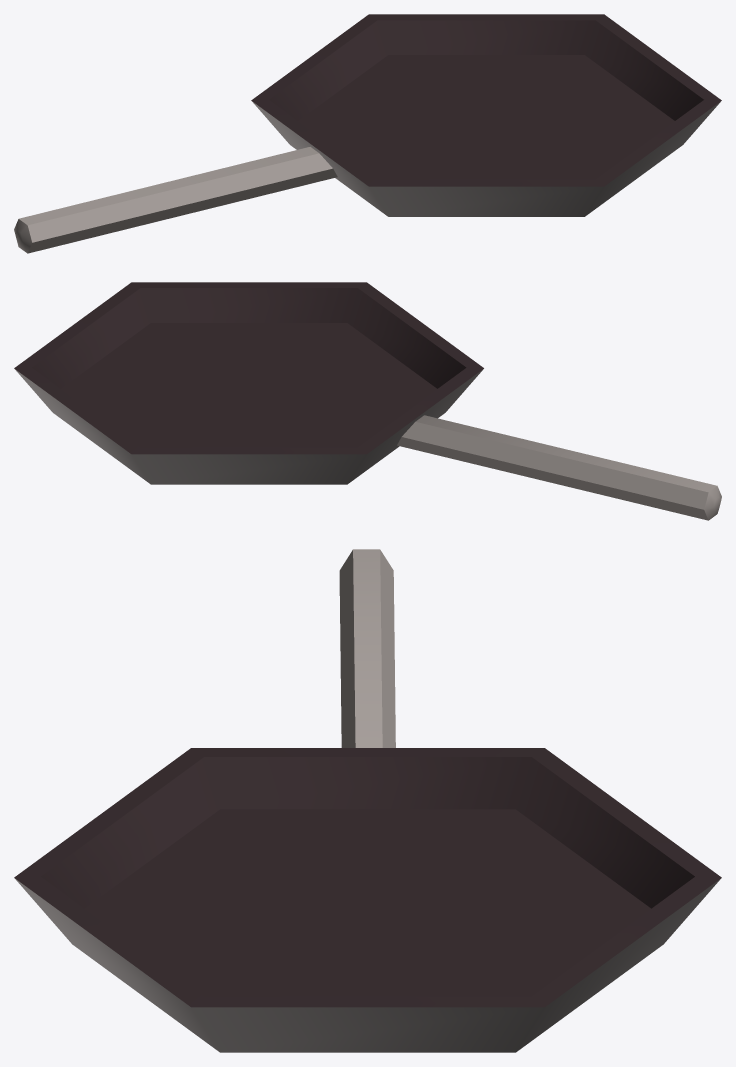
The model's file is pan.fbx.
3 renders of one model, top to bottom at view 1: azimuth 30°, elevation 25°; view 2: azimuth 150°, elevation 25°; view 3: azimuth 270°, elevation 25°, orthographic. The views are drawn at different scales.
Parts seen in each view (by area): view 1: pan; view 2: pan; view 3: pan.
Boxes of the visible parts, <box> form: pan: <box>14,14,721,253</box>; pan: <box>14,282,721,520</box>; pan: <box>14,549,721,1052</box>.
Size of the model in its own units: 61.48 by 97.22 by 6.5.
